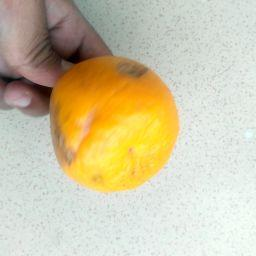Unripe: (53, 55, 179, 190)
